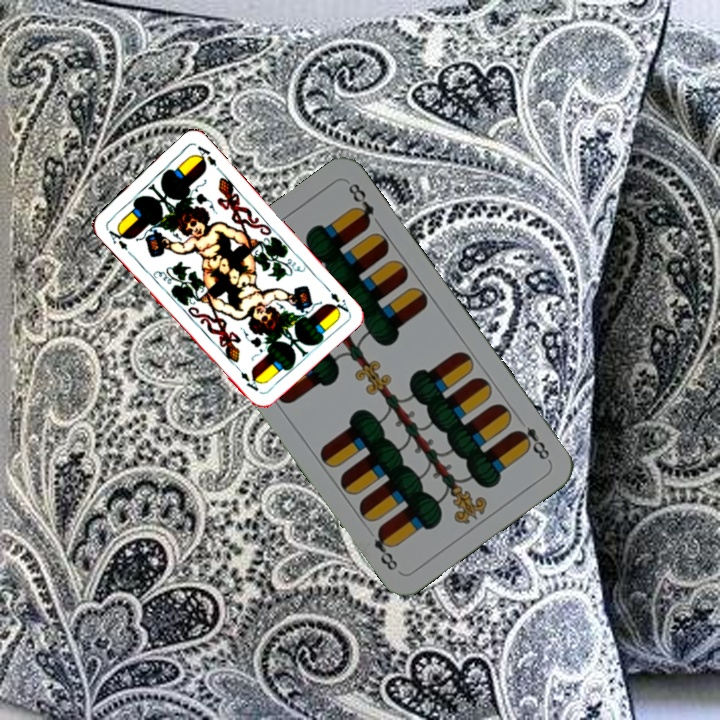E8: (511, 422, 553, 465)
EA: (320, 281, 351, 316), (102, 223, 130, 253)
